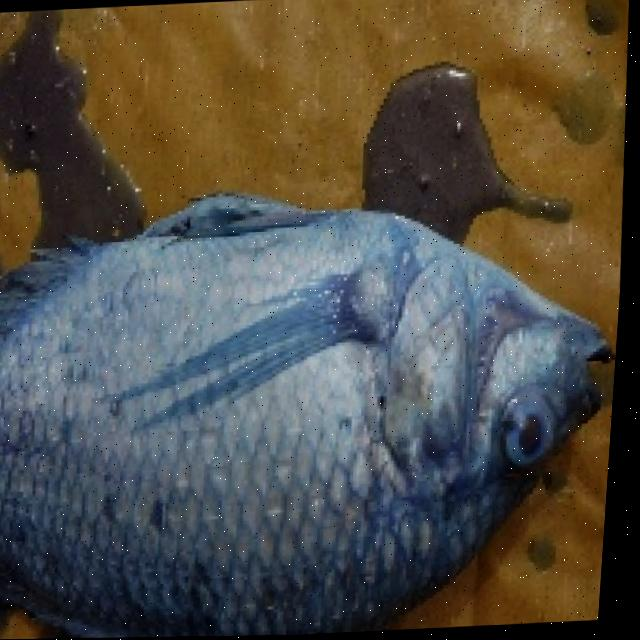Non-Fresh: (0, 196, 629, 640), (493, 386, 583, 480)
